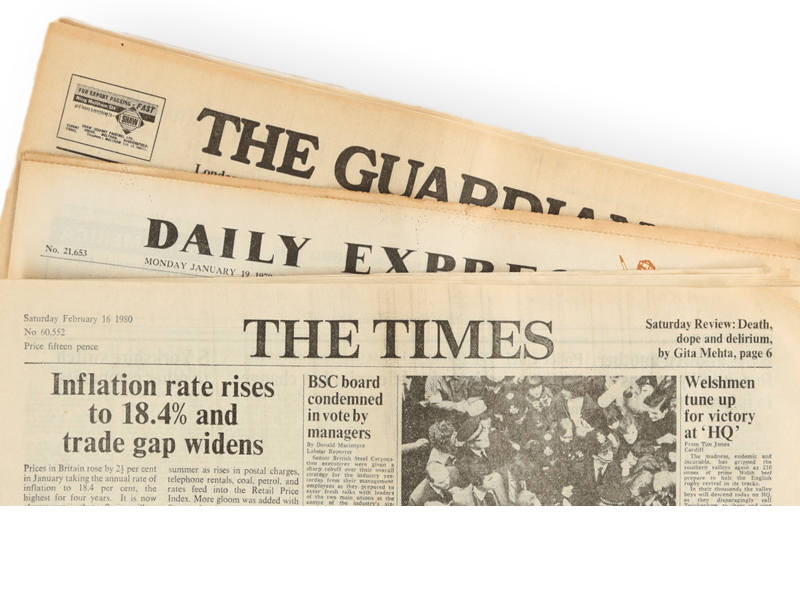news_paper: (12, 5, 796, 309), (2, 273, 800, 549), (1, 135, 800, 323)
